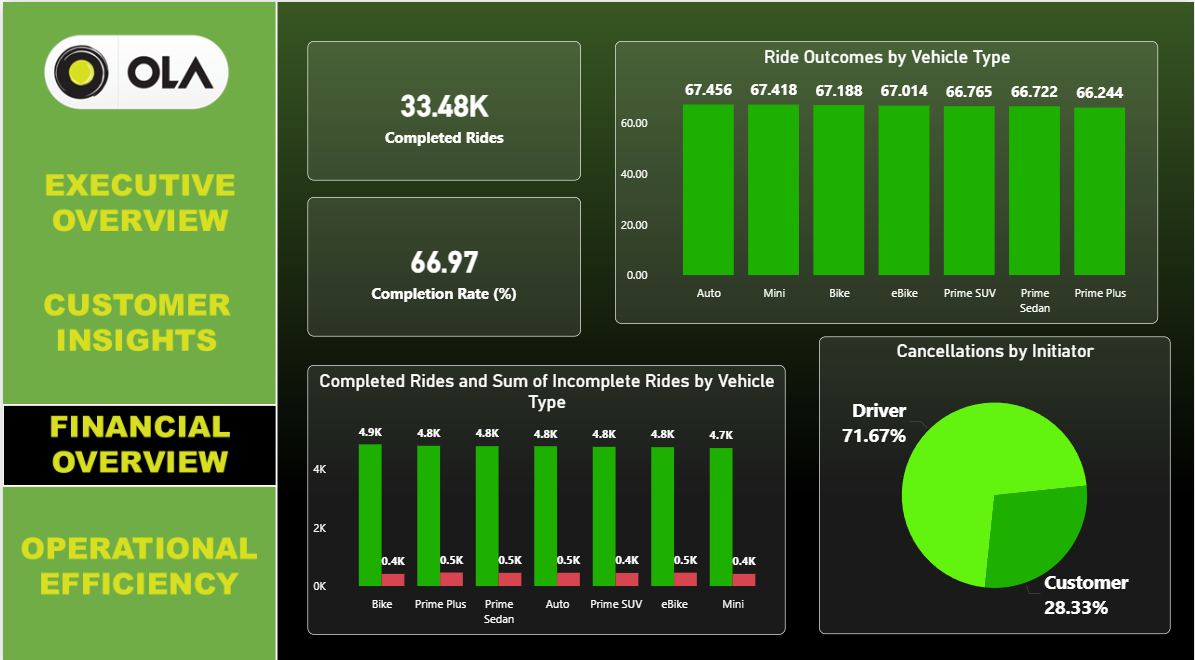

What the dashboard file says about the page in this screenshot:
{"tool":"powerbi","page":{"name":"Page 3","canvas":[1280,720],"ordinal":2},"visuals":[{"type":"actionButton","box":[0,172,292.9,90.7],"z":0},{"type":"actionButton","box":[0,300.5,292.9,90.7],"z":1000},{"type":"actionButton","box":[1.9,559.4,292.9,90.7],"z":2000},{"type":"card","fields":{"Values":["Bengaluru_Ola_data_updated.Completed Rides"]},"box":[328,42,294,150],"z":3000},{"type":"card","fields":{"Values":["Bengaluru_Ola_data_updated.Completion Rate (%)"]},"box":[328,210,294,150],"z":4000},{"type":"clusteredColumnChart","fields":{"Y":["Bengaluru_Ola_data_updated.Completed Rides","Sum(Bengaluru_Ola_data_updated.Incomplete Rides)"],"Category":["Bengaluru_Ola_data_updated.Vehicle Type"]},"box":[328,390,514,290],"z":5000},{"type":"pieChart","title":"Cancellations by Initiator","fields":{"Y":["Sum(Bengaluru_Ola_data_updated.Cancelled  by Customer)","Sum(Bengaluru_Ola_data_updated.Cancelled Rides by Driver)"]},"box":[878,360,378,320],"z":6000},{"type":"columnChart","title":"Ride Outcomes by Vehicle Type","fields":{"Category":["Bengaluru_Ola_data_updated.Vehicle Type"],"Y":["Bengaluru_Ola_data_updated.Completion Rate (%)"]},"box":[658,42,584,304],"z":7000}]}

Visuals, with their boxes in screenshot pixels (x1, y1, x2, y2), scaled from the page's 1280x720 canvas onto the 1195x660 screenshot:
actionButton: left=0, top=158, right=273, bottom=241
actionButton: left=0, top=275, right=273, bottom=359
actionButton: left=2, top=513, right=275, bottom=596
card - Bengaluru_Ola_data_updated.Completed Rides: left=306, top=38, right=581, bottom=176
card - Bengaluru_Ola_data_updated.Completion Rate (%): left=306, top=192, right=581, bottom=330
clusteredColumnChart - Bengaluru_Ola_data_updated.Completed Rides x Sum(Bengaluru_Ola_data_updated.Incomplete Rides): left=306, top=358, right=786, bottom=623
"Cancellations by Initiator" pieChart: left=820, top=330, right=1173, bottom=623
"Ride Outcomes by Vehicle Type" columnChart: left=614, top=38, right=1160, bottom=317
